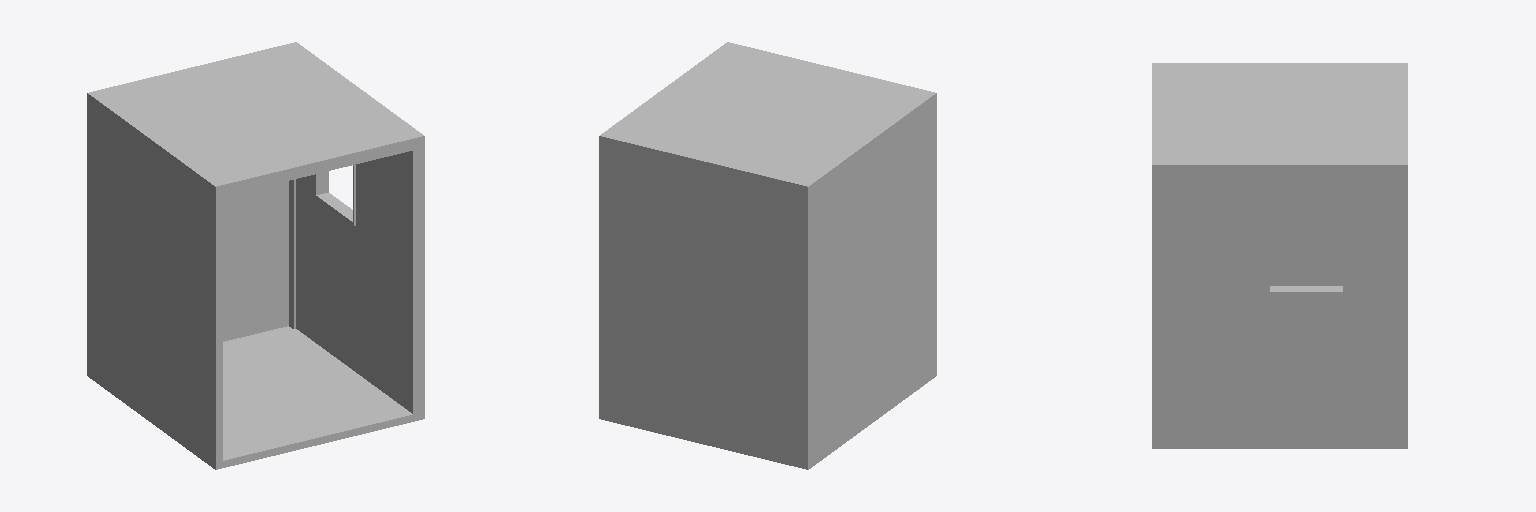
File: newone.obj
3 renders of one model, left to right at view 1: azimuth 30°, elevation 25°; view 2: azimuth 150°, elevation 25°; view 3: azimuth 270°, elevation 25°, orthographic.
Parts seen in each view (by area): view 1: corner001; view 2: corner001; view 3: corner001.
Part boxes in pixels (x1,y1,x2,y2): corner001: (87,42,424,469); corner001: (599,42,936,469); corner001: (1152,63,1407,448).
Bounding box in the file's own units: 1480 × 1916 × 1574.